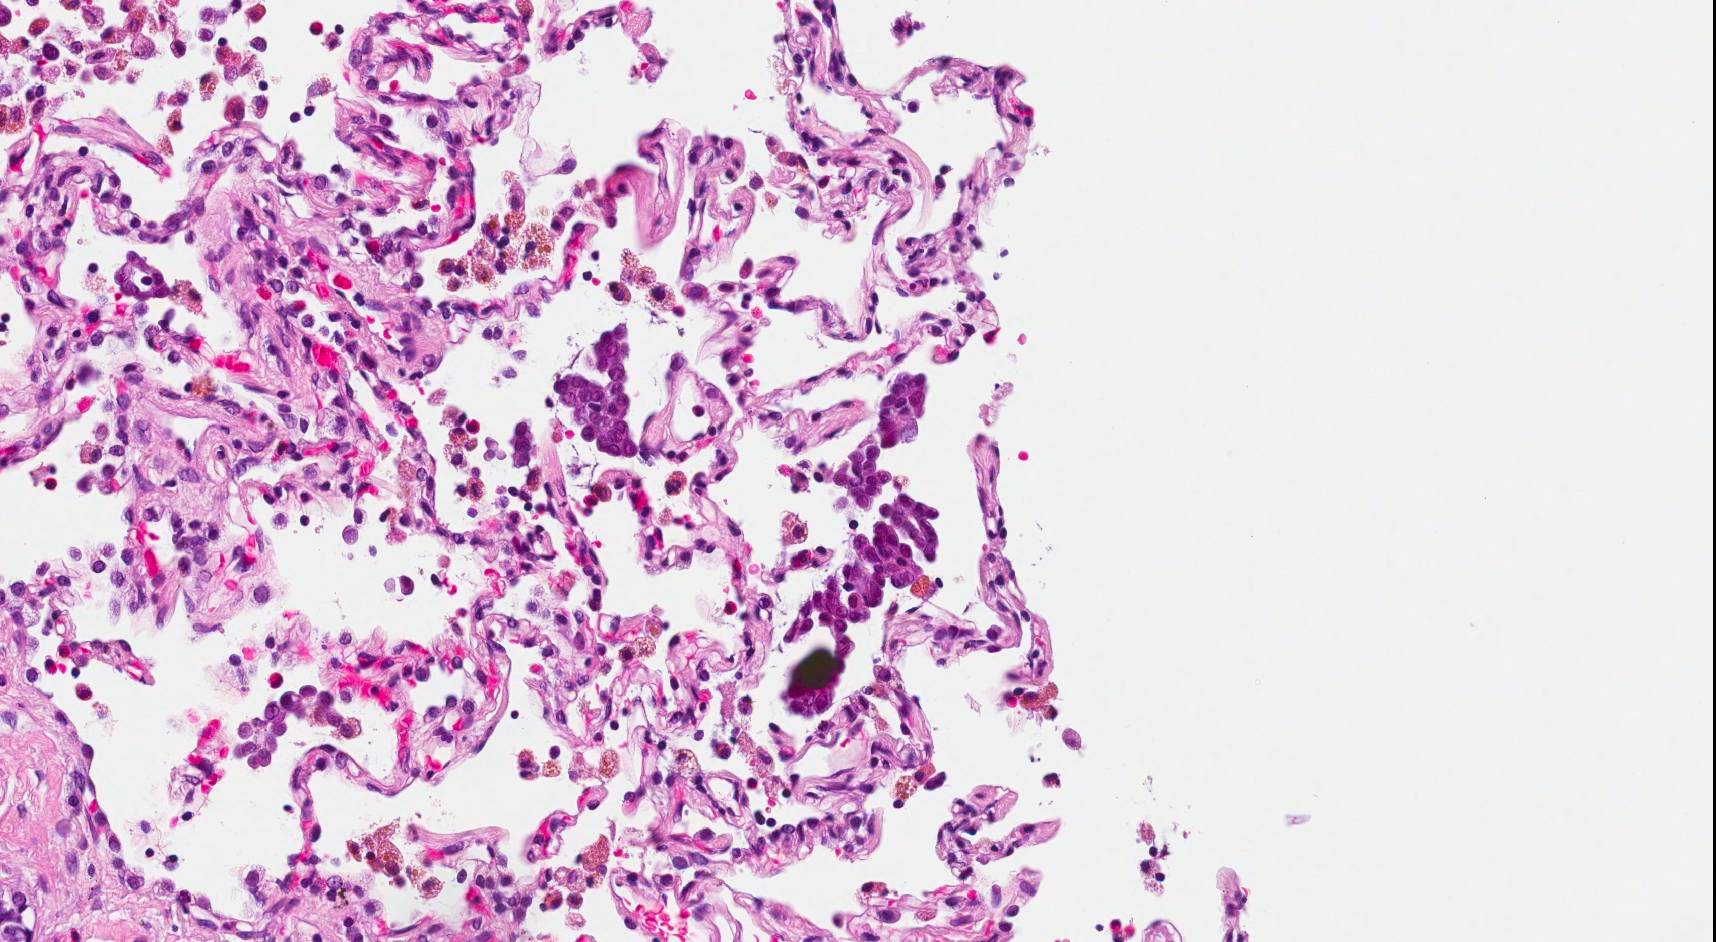stas: (784, 496, 938, 645), (552, 322, 639, 458), (233, 684, 347, 771), (782, 638, 855, 717), (833, 439, 893, 514), (877, 373, 931, 448), (113, 252, 174, 301), (507, 418, 538, 471)
